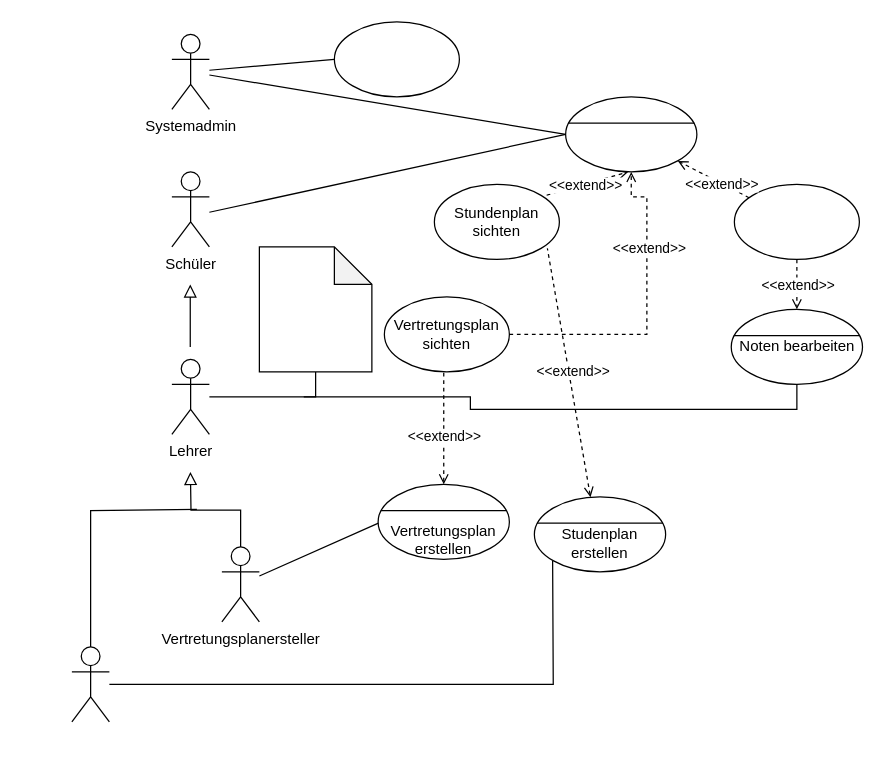
Image size: 885x770. Some labels were removed from this diagram. Each missing label, with the centre of its shape:
"Anmelden" belongs at pixel 630 134.
"condition: Wenn Schüler zur Klasse gehört" belongs at pixel 315 309.
"Konto erstellen" belongs at pixel 396 59.
"Noten sichten" belongs at pixel 796 221.
"Stundenplanersteller" belongs at pixel 90 684.
